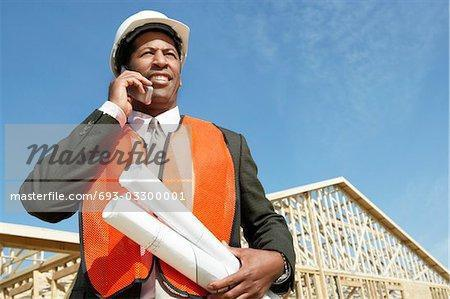hardhat: (105, 10, 192, 69)
worker: (17, 8, 295, 299)
